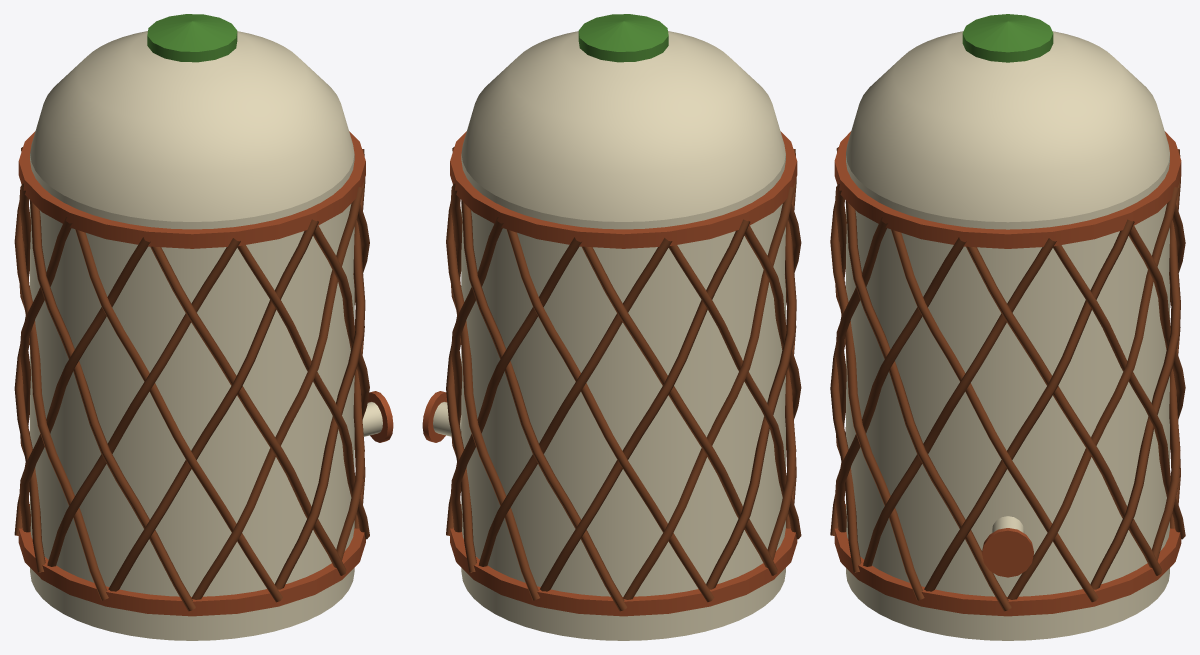
The model's file is u500_water.obj.
3 renders of one model, left to right at view 1: azimuth 30°, elevation 25°; view 2: azimuth 150°, elevation 25°; view 3: azimuth 270°, elevation 25°, orthographic.
Parts seen in each view (by area): view 1: u500_water; view 2: u500_water; view 3: u500_water.
Boxes of the visible parts, x1,y1,x2,y2 form: u500_water: (14,14,393,640); u500_water: (422,14,801,640); u500_water: (830,14,1185,640).
Bounding box in the file's own units: 2.44 × 3.75 × 2.19.
